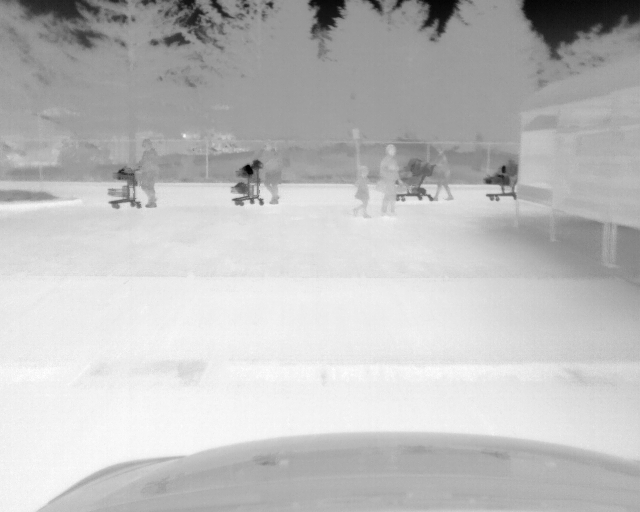people: (134, 140, 161, 209), (375, 142, 399, 219), (259, 141, 281, 206), (350, 164, 374, 220), (432, 147, 454, 201)
